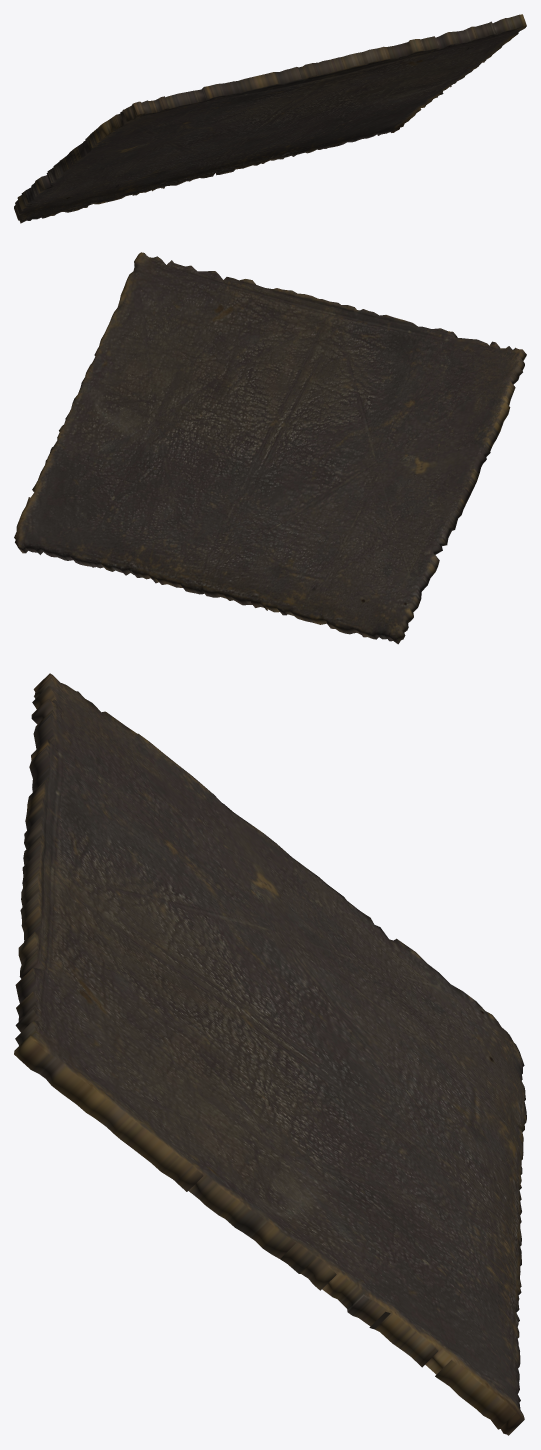
The model's file is leather_model.fbx.
The picture shows the model from 3 angles, top to bottom: view 1: azimuth 30°, elevation 25°; view 2: azimuth 150°, elevation 25°; view 3: azimuth 270°, elevation 25°; orthographic projection. The views are drawn at different scales.
Parts seen in each view (by area): view 1: Object_2; view 2: Object_2; view 3: Object_2.
Part boxes in pixels (bbox=[...]): Object_2: bbox=[14, 14, 526, 223]; Object_2: bbox=[14, 252, 526, 644]; Object_2: bbox=[14, 673, 526, 1435].
Bounding box in the file's own units: 1.03 × 0.596 × 0.5209.
1 material, 1 textured.
